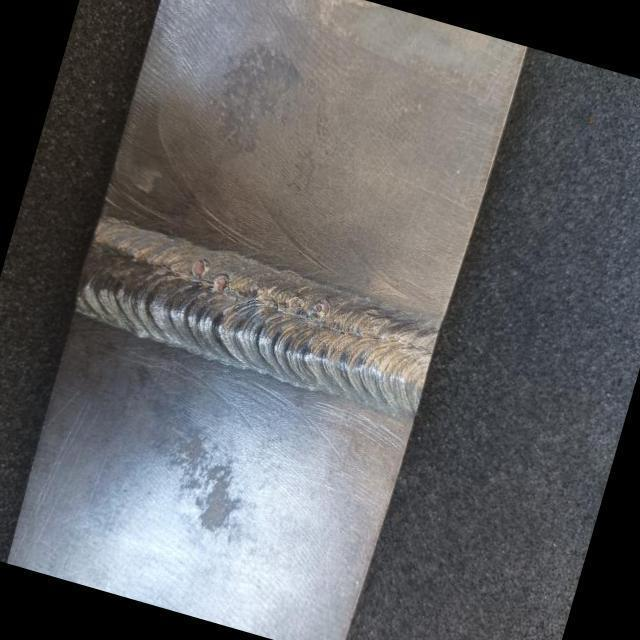defect: (286, 291, 304, 317), (310, 296, 328, 321), (189, 258, 206, 280), (212, 272, 229, 293), (251, 284, 260, 295)
